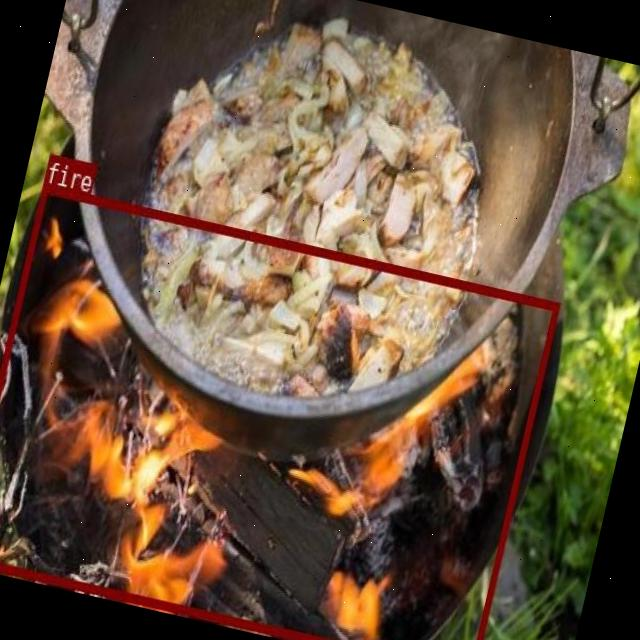fire: (0, 183, 559, 640)
